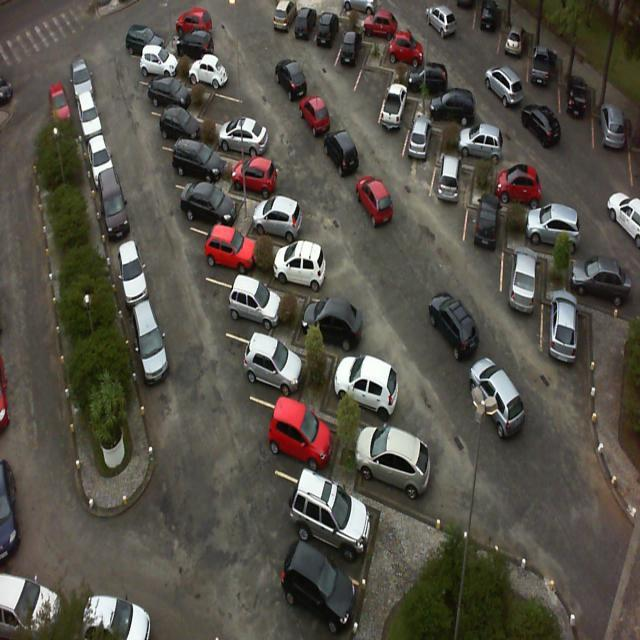space-empty: (202, 78, 258, 127), (354, 63, 392, 116)
space-occupied: (304, 468, 388, 582), (271, 390, 348, 479), (317, 353, 388, 431), (365, 425, 432, 507), (245, 326, 312, 406), (223, 270, 286, 343), (302, 288, 362, 358), (272, 235, 337, 297), (570, 260, 630, 322), (542, 303, 591, 374), (204, 224, 262, 281), (254, 192, 315, 246), (192, 176, 248, 234), (237, 148, 295, 200), (533, 205, 585, 263), (468, 198, 507, 272), (503, 241, 543, 312), (496, 165, 552, 214), (171, 139, 224, 188), (431, 163, 472, 225), (400, 122, 442, 182), (158, 101, 207, 151), (464, 124, 514, 170), (315, 9, 352, 68), (380, 92, 416, 152), (222, 117, 272, 160), (410, 61, 458, 104), (335, 40, 372, 94), (151, 75, 197, 116), (561, 75, 590, 136), (139, 46, 182, 87), (434, 94, 478, 134), (175, 31, 220, 68), (366, 11, 411, 48), (192, 58, 237, 94), (500, 30, 532, 79), (529, 50, 560, 100), (389, 38, 428, 74)
